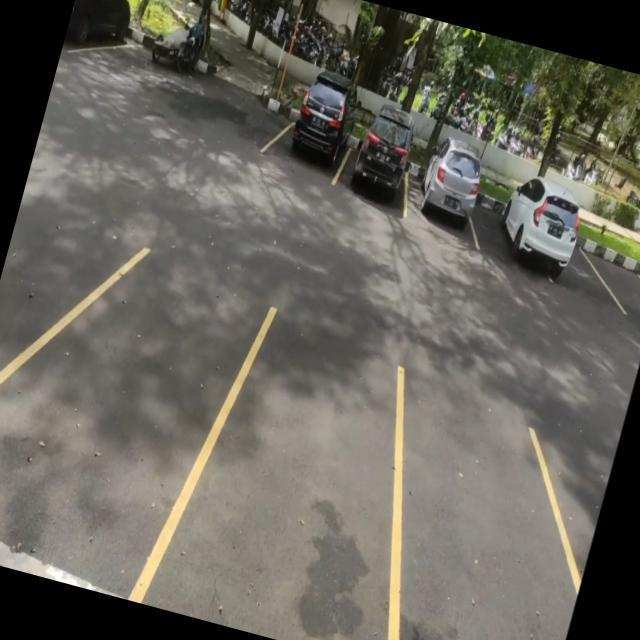empty: (159, 301, 445, 640), (0, 217, 249, 598), (354, 390, 610, 640), (589, 252, 640, 324)
occupied: (466, 163, 590, 287), (262, 60, 366, 186), (331, 96, 432, 216), (397, 130, 497, 242)
